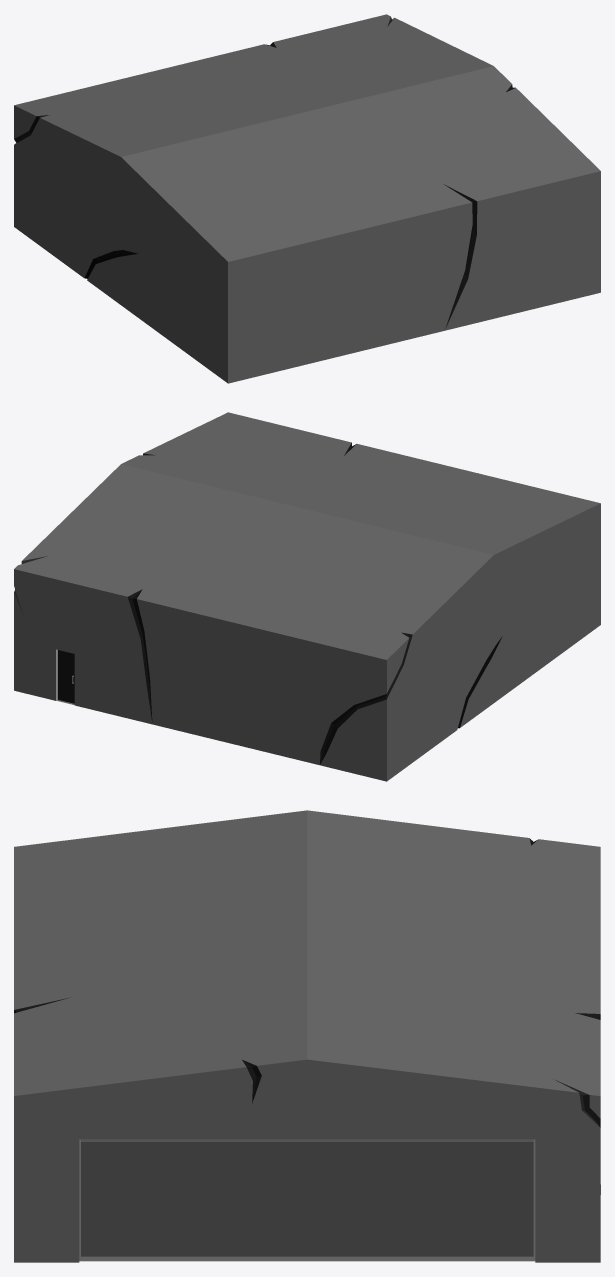
File: HangarWithCracks.fbx
3 views of the same model, one above another, from view 1: azimuth 30°, elevation 25°; view 2: azimuth 150°, elevation 25°; view 3: azimuth 270°, elevation 25° (orthographic). The views are drawn at different scales.
Parts seen in each view (by area): view 1: Hangar; view 2: Hangar, SideDoor; view 3: Hangar, Door, Plane.
Part boxes in pixels (x1,y1,x2,y2): Hangar: (14,14,600,383); Hangar: (14,412,600,781); SideDoor: (57,650,74,703); Hangar: (14,810,600,1262); Door: (81,1139,533,1256); Plane: (79,1139,535,1261).
Size of the model in its own units: 1740 by 661 by 1732.
